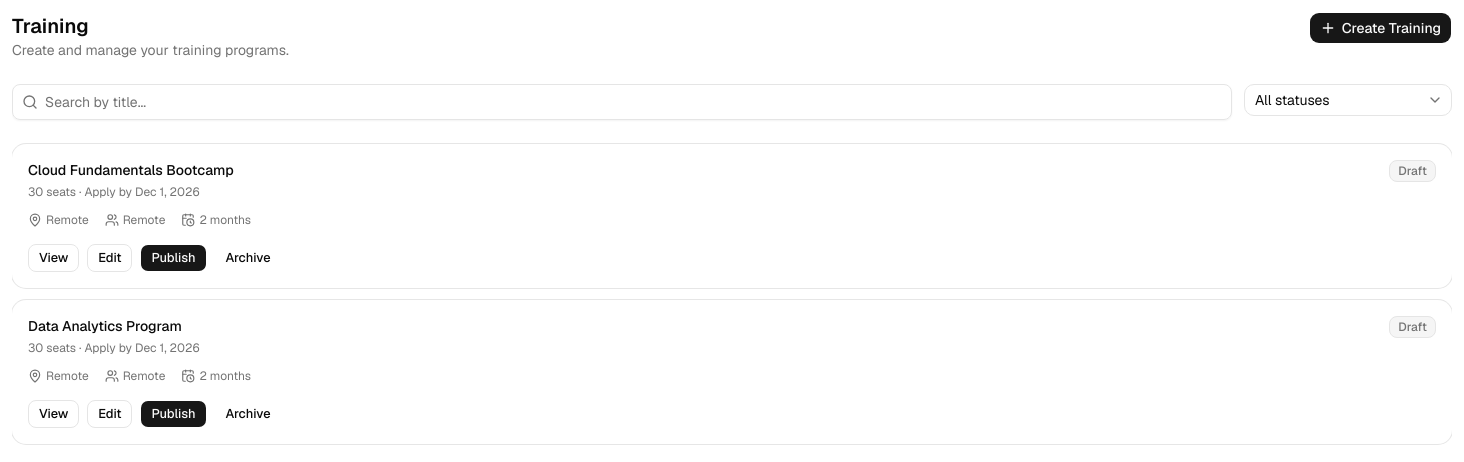
Scenario: TrainingsListView › filters by search text
The image size is (1464, 462).
Expected: the link "Cloud Fundamentals Bootcamp" is shown, [28,160,234,180]
Step 1. Type "data" into the field named "Search training" → {"x": 622, "y": 102}, box [12,84,1232,120]
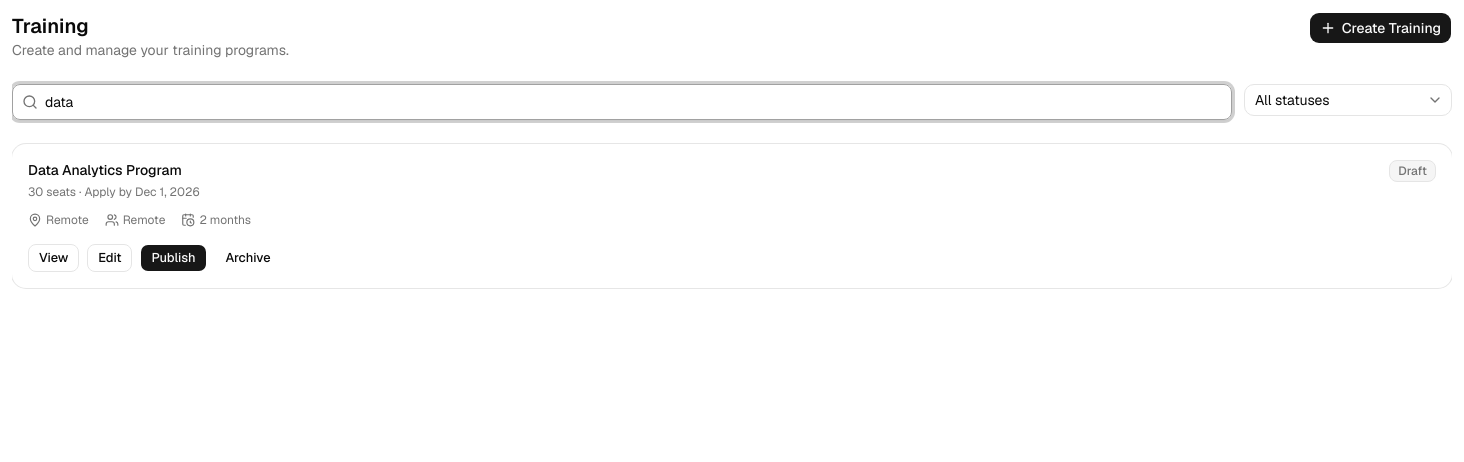
Expected: the link "Data Analytics Program" is shown, [28,160,200,180]
Now the link "Cloud Fundamentals Bootcamp" is gone
